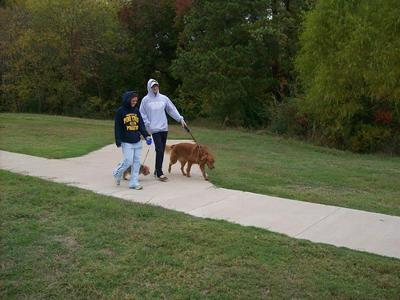person: (139, 79, 187, 182)
